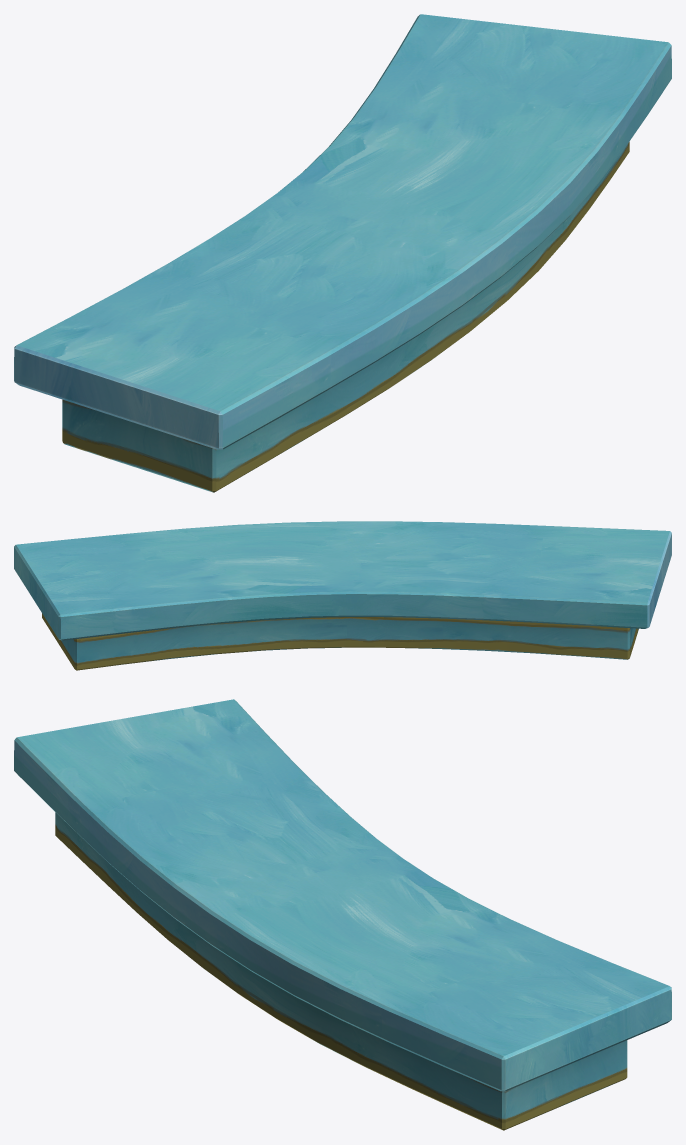
File: SM_Big_Pillar_Attachment_01.fbx
The picture shows the model from 3 angles, top to bottom: view 1: azimuth 30°, elevation 25°; view 2: azimuth 150°, elevation 25°; view 3: azimuth 270°, elevation 25°; orthographic projection. The views are drawn at different scales.
Visible parts, largest first — view 1: SM_Big_Pillar_Attachment_01; view 2: SM_Big_Pillar_Attachment_01; view 3: SM_Big_Pillar_Attachment_01.
Boxes of the visible parts, x1,y1,x2,y2 form: SM_Big_Pillar_Attachment_01: [14, 14, 671, 492]; SM_Big_Pillar_Attachment_01: [14, 521, 671, 670]; SM_Big_Pillar_Attachment_01: [14, 699, 671, 1130].
Bounding box in the file's own units: 2213 × 268 × 1714.
